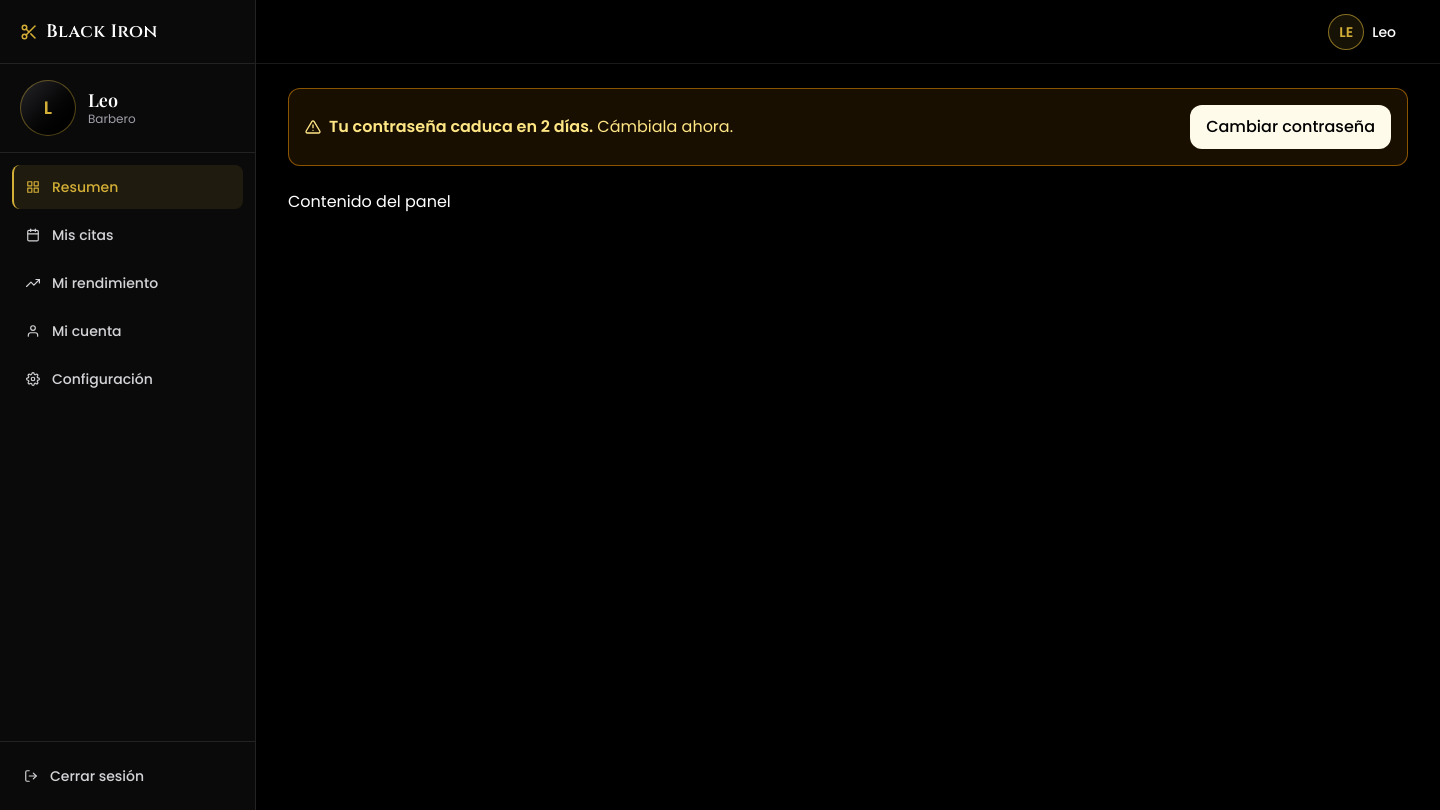
Test: Panel del barbero según la caducidad de su contraseña › por vencer: muestra el error del back-end junto al campo (contraseña actual incorrecta)
Click the button "Cambiar contraseña" at coordinates (1291, 127), box [1190, 105, 1391, 149]
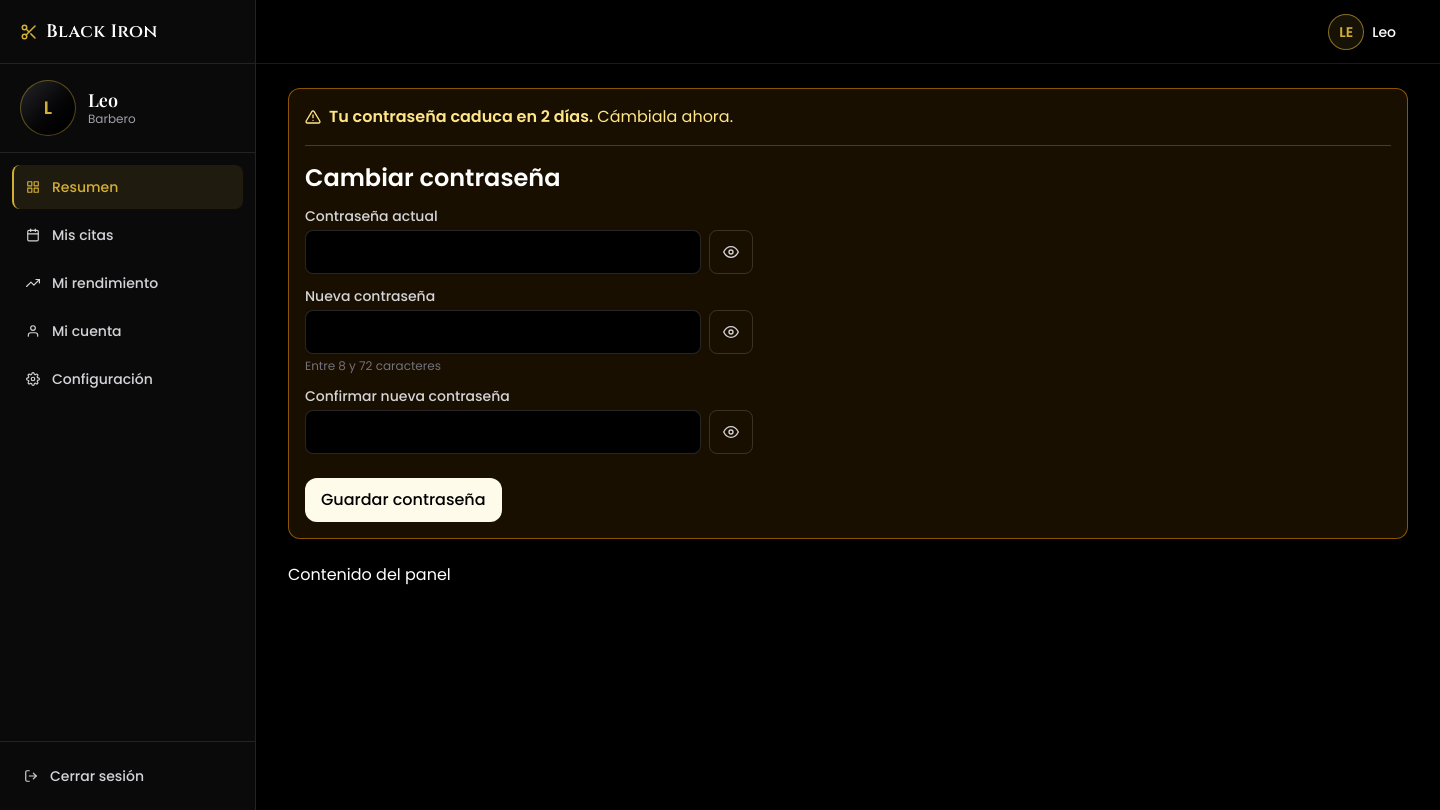
Type "mala-clave1" into the password field labelled "Contraseña actual" at coordinates (503, 252), box [305, 230, 701, 274]
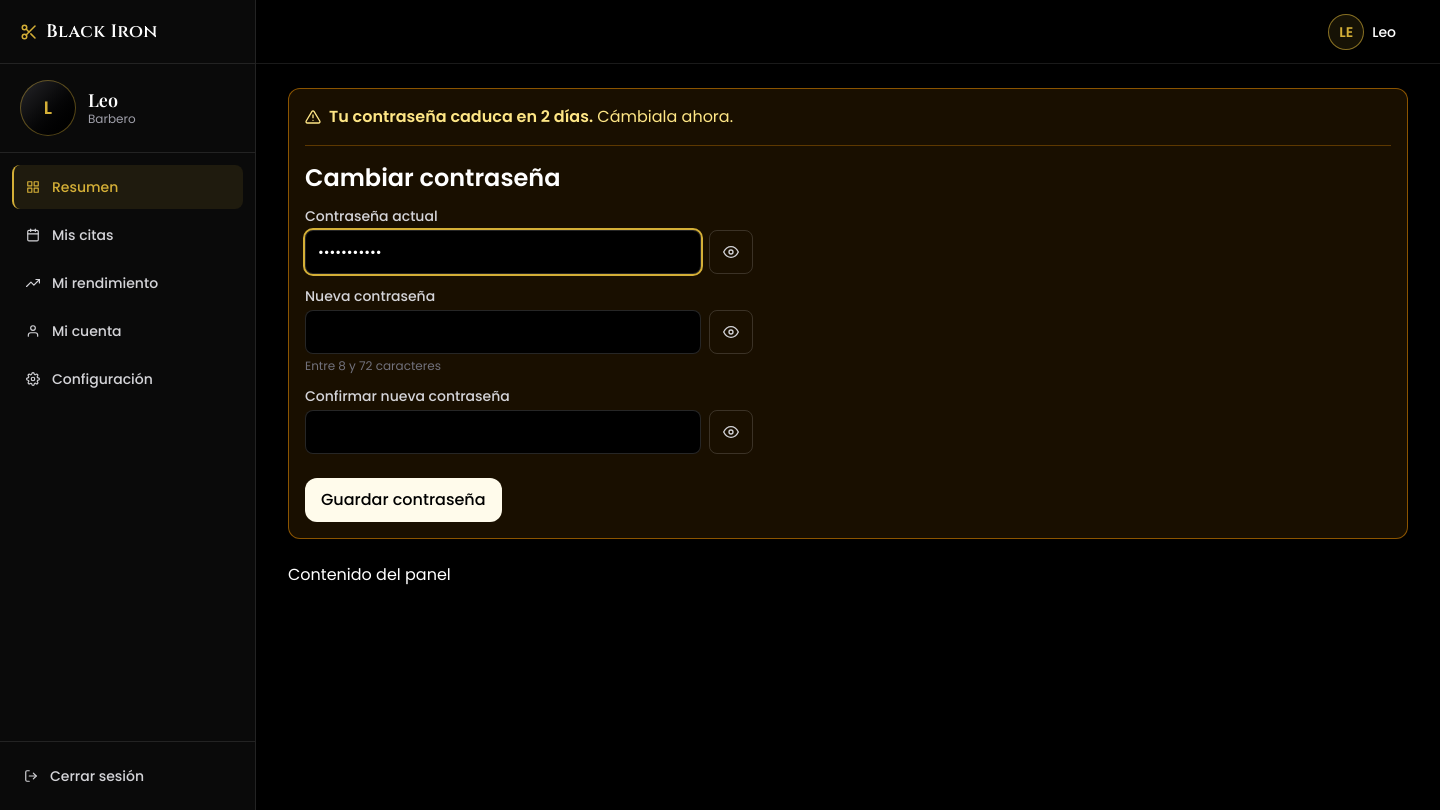
Type "nueva12345" into the password field labelled "Nueva contraseña" at coordinates (503, 332), box [305, 310, 701, 354]
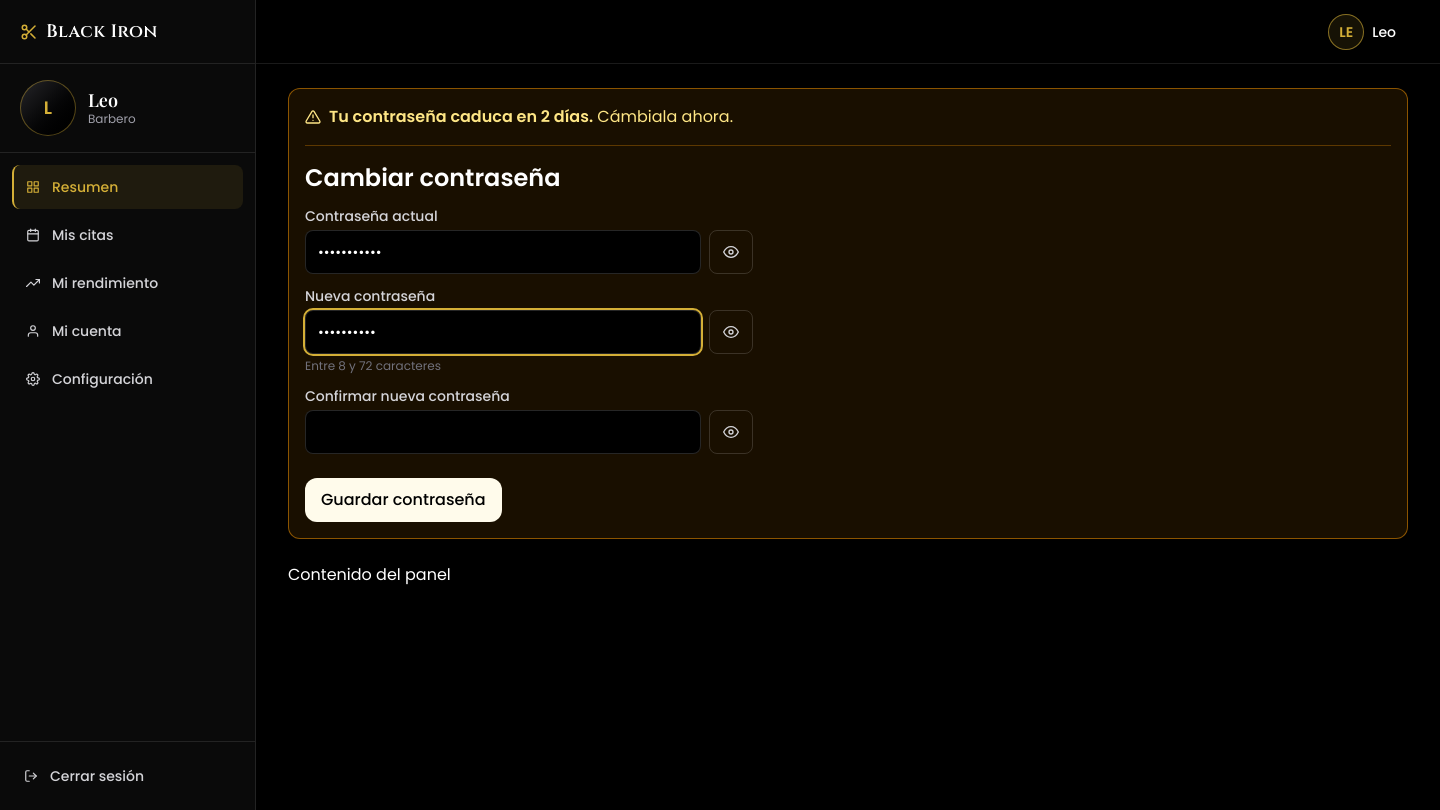
Type "nueva12345" into the password field labelled "Confirmar nueva contraseña" at coordinates (503, 432), box [305, 410, 701, 454]
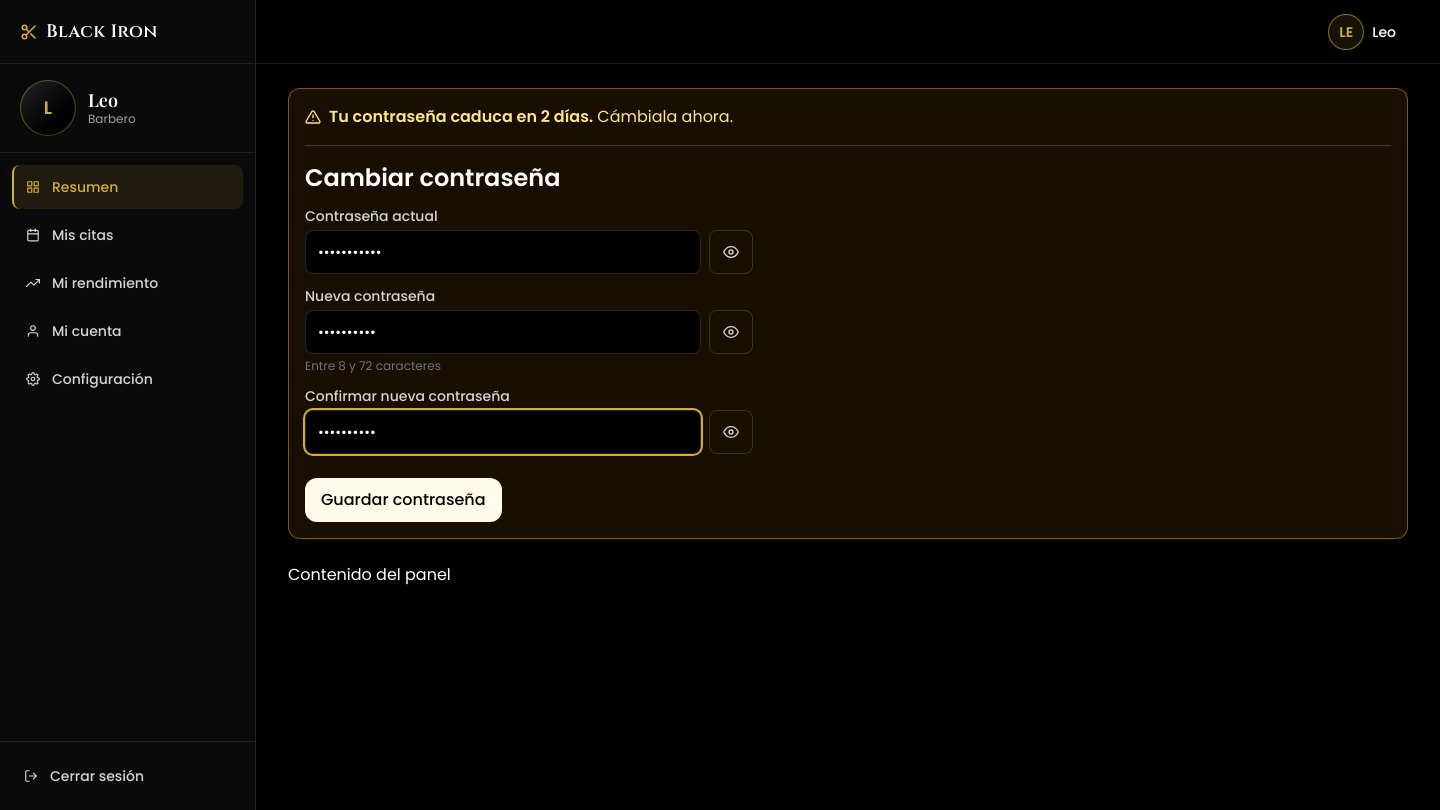
Click the button "Guardar contraseña" at coordinates (403, 500), box [305, 478, 502, 522]
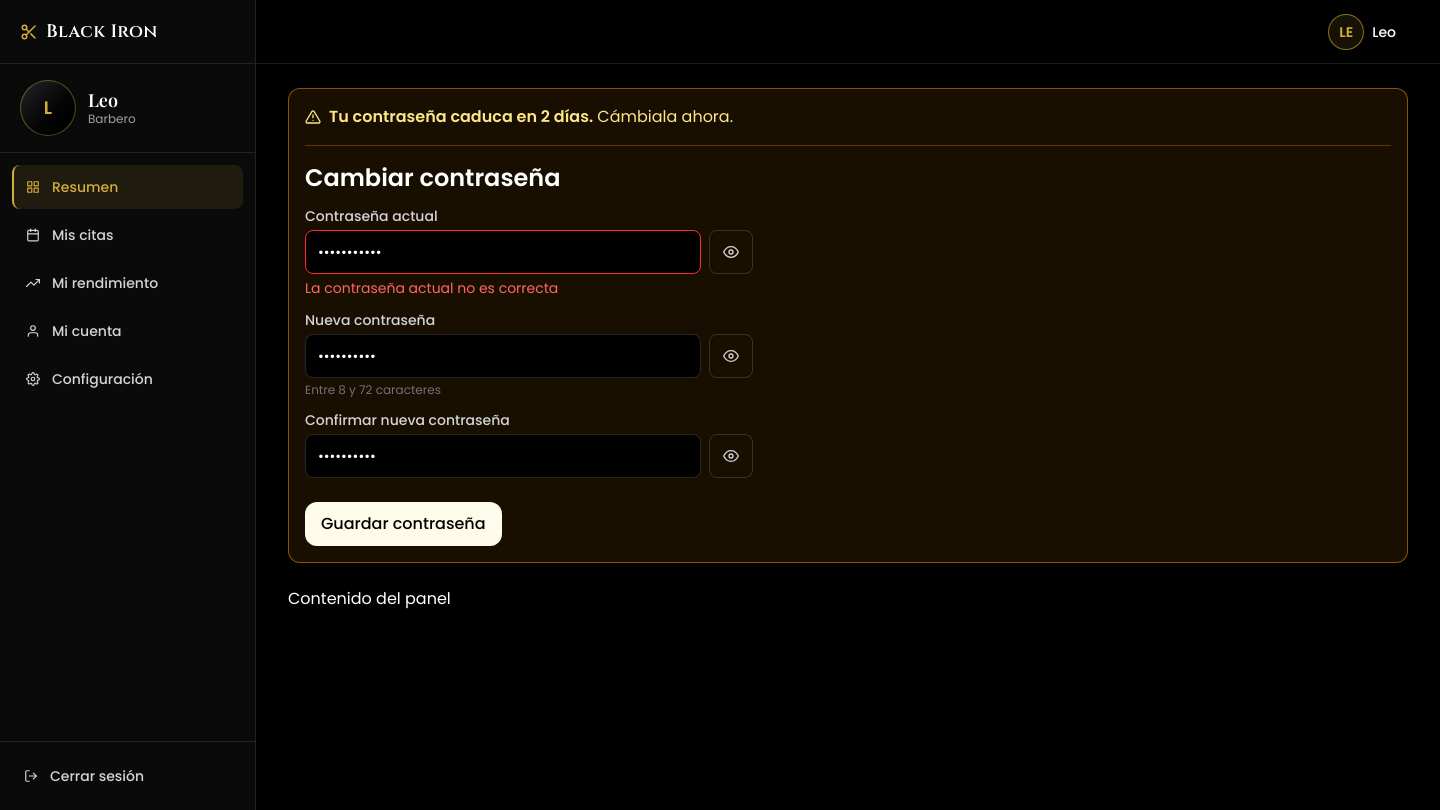
Check: the message "La contraseña actual no es correcta" is shown, box [305, 278, 558, 298]
